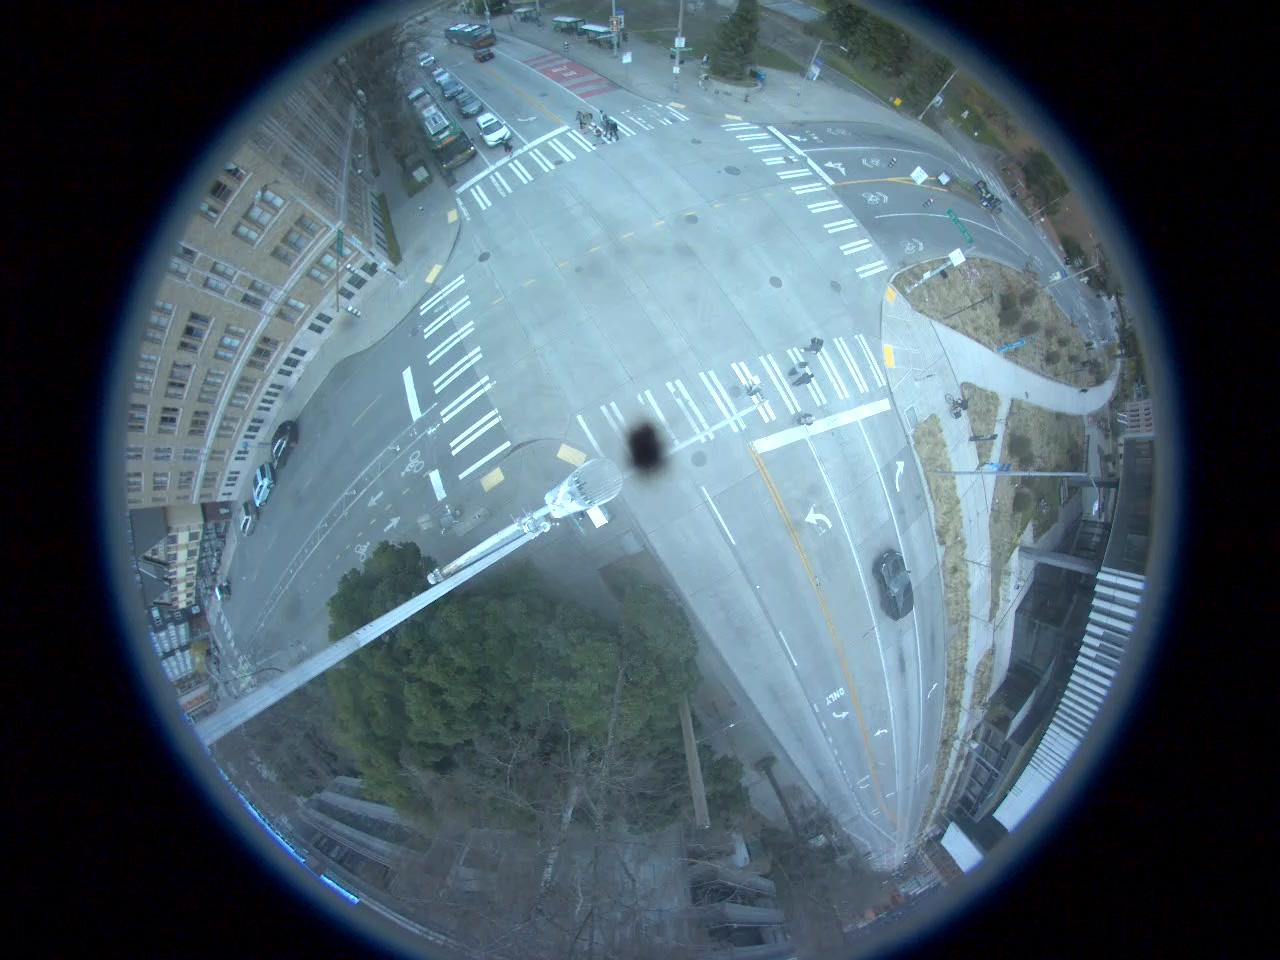bicycle: (944, 392, 970, 421)
bus: (406, 87, 474, 166), (444, 21, 498, 47)
car: (880, 551, 911, 620), (269, 421, 297, 472), (250, 462, 277, 506), (480, 111, 504, 146), (238, 501, 257, 538), (454, 93, 482, 117), (441, 76, 460, 100), (432, 66, 452, 84), (476, 46, 495, 64)
person: (693, 68, 715, 94), (804, 334, 827, 356), (500, 136, 518, 162), (606, 118, 622, 146), (794, 372, 816, 390), (794, 411, 816, 427), (592, 125, 607, 148), (580, 110, 596, 131), (788, 361, 808, 377), (574, 107, 584, 132), (600, 106, 608, 130)
